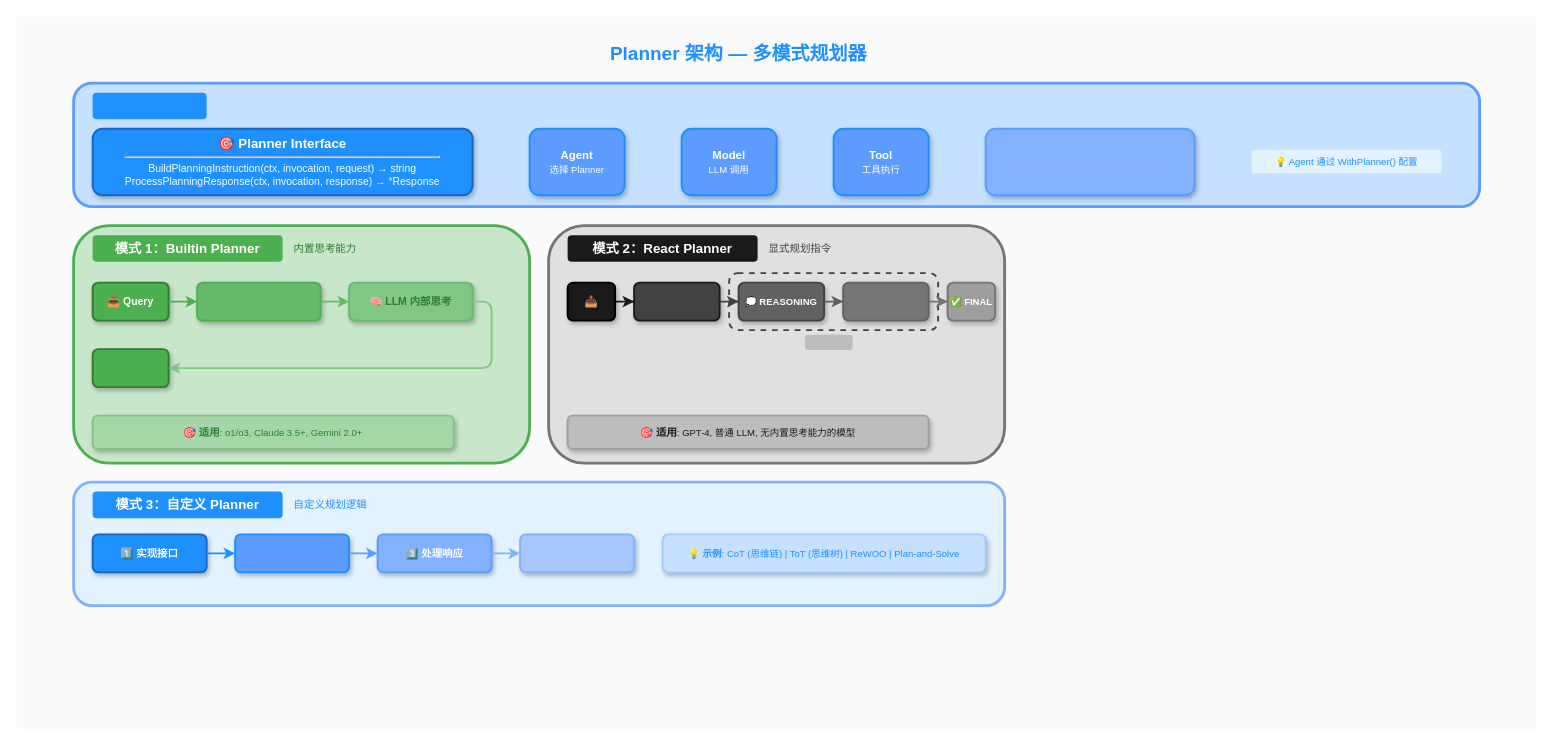
The diagram is 1552 pixels wide and 745 high, and some of its shapes have lost their labels. Here are the shapes that lost their labels. From the top down, the centre of each, then its label:
At point 149,105: "Planner 接口".
At point 1090,163: "🔀 多种模式可选 根据模型能力选择合适的 Planner".
At point 259,302: "⚙️ 配置思考参数".
At point 677,302: "📋 PLANNING".
At point 886,302: "⚡ ACTION".
At point 828,342: "🔁 循环".
At point 131,369: "📤 Response".
At point 292,554: "2️⃣ 构建指令".
At point 577,554: "4️⃣ 注册使用".
